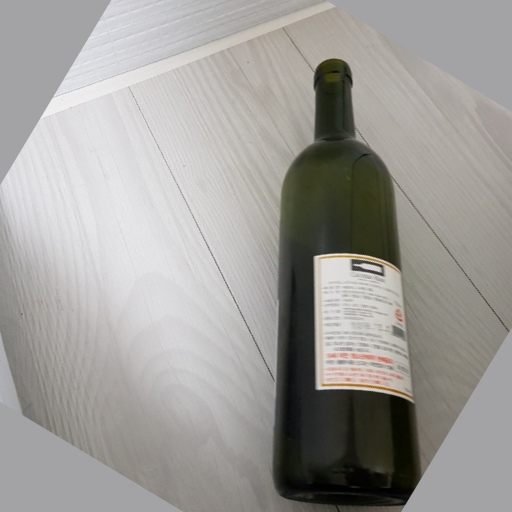Glass_2: (266, 52, 427, 512)
